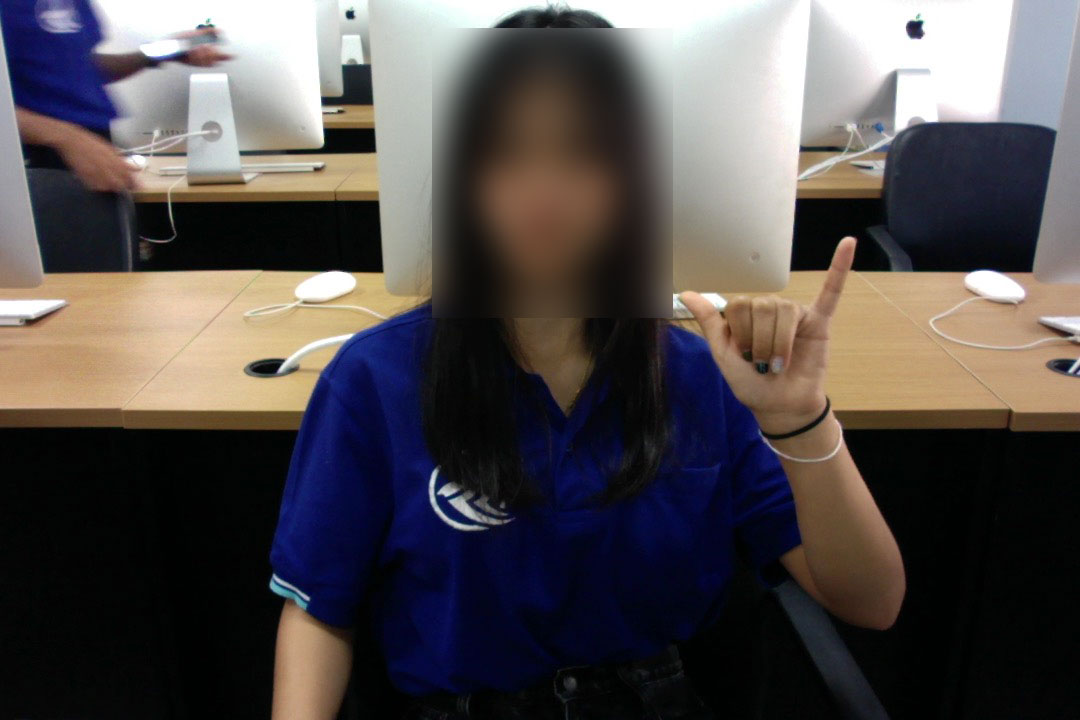yor: (667, 222, 862, 425)
